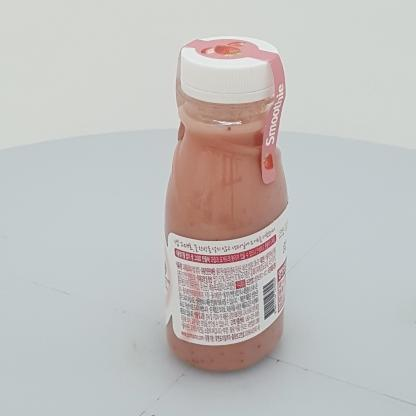--------------------190ML: (164, 36, 288, 371)
